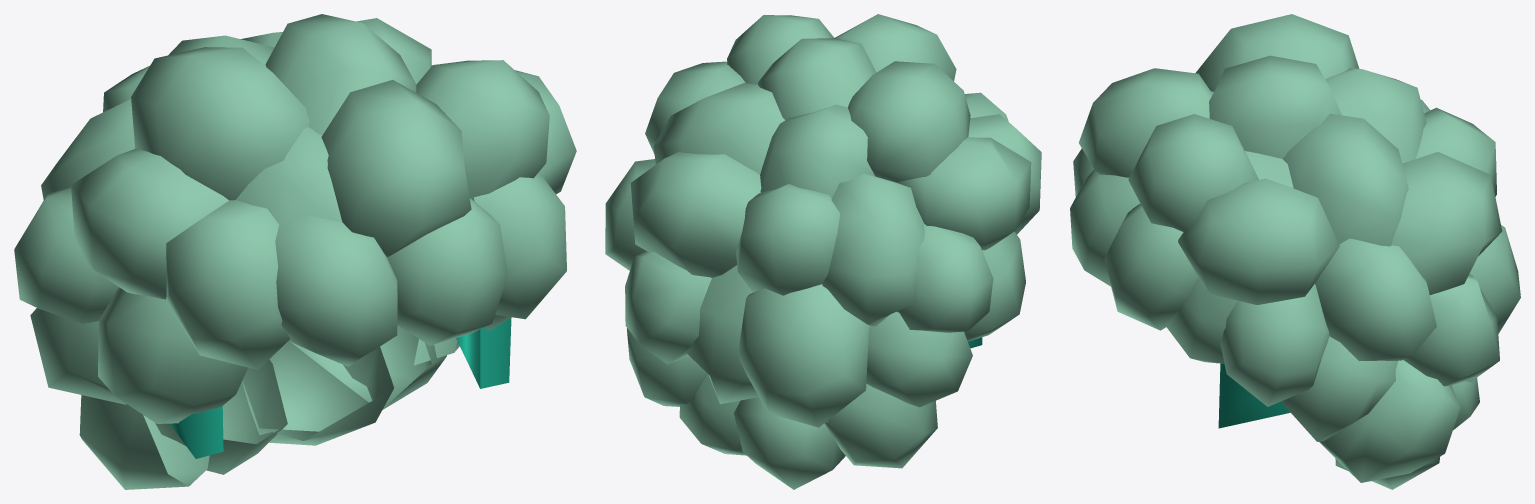
Rendered from Male_Hairs_04_v3.fbx.
The picture shows the model from 3 angles, left to right: view 1: azimuth 30°, elevation 25°; view 2: azimuth 150°, elevation 25°; view 3: azimuth 270°, elevation 25°; orthographic projection. The views are drawn at different scales.
Parts seen in each view (by area): view 1: Male_Hairs_04_v3; view 2: Male_Hairs_04_v3; view 3: Male_Hairs_04_v3.
Part boxes in pixels (<box>): Male_Hairs_04_v3: <box>14,14,576,489</box>; Male_Hairs_04_v3: <box>605,14,1041,489</box>; Male_Hairs_04_v3: <box>1070,14,1520,489</box>.
Bounding box in the file's own units: 78.16 × 75.37 × 76.42.
